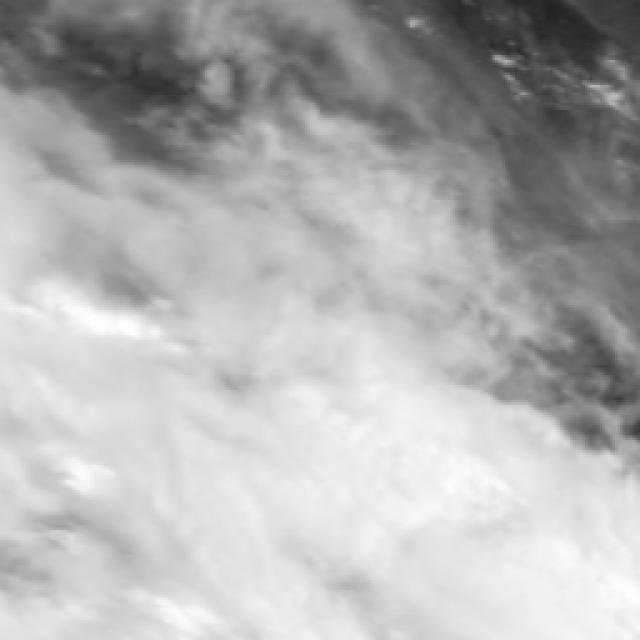CB: (53, 403, 501, 632), (277, 472, 622, 638)
